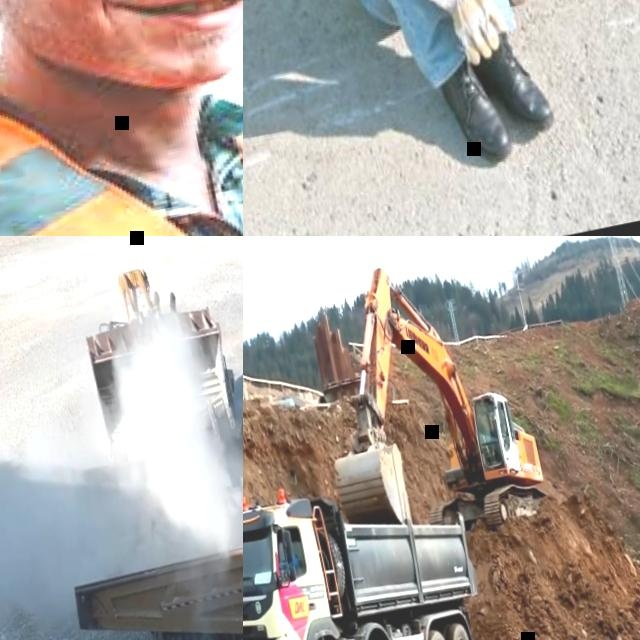NO-Mask: (0, 0, 243, 124)
NO-Safety Vest: (280, 553, 297, 570)
Person: (0, 0, 243, 236), (263, 0, 559, 188), (269, 538, 299, 576), (491, 419, 510, 459)
Safety Vest: (0, 16, 243, 236)
machinery: (293, 242, 552, 559), (31, 359, 243, 640), (243, 453, 502, 640), (67, 243, 243, 468)
